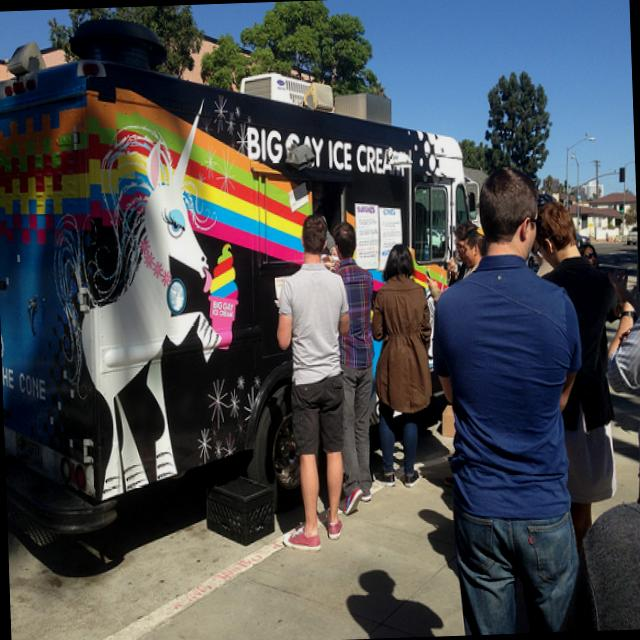Vehicle: (0, 46, 486, 539), (624, 225, 638, 243)
